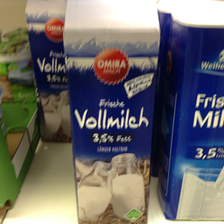milk: (61, 1, 163, 218), (168, 4, 224, 216), (25, 1, 74, 146)
